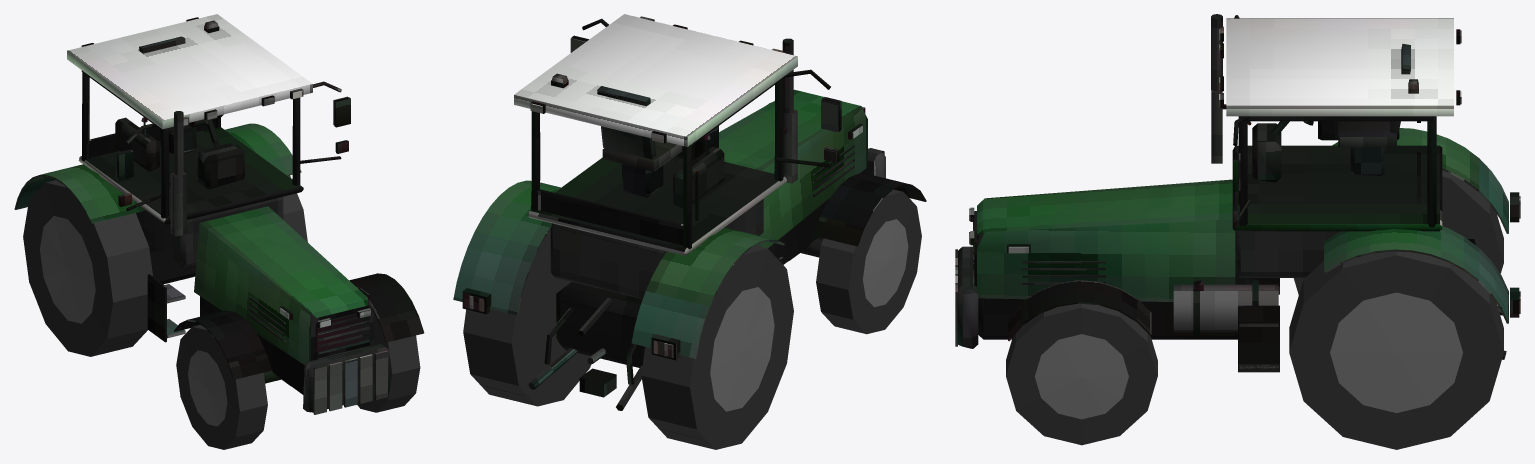
File: traktor_f.glb
3 views of the same model, side by side, from view 1: azimuth 30°, elevation 25°; view 2: azimuth 150°, elevation 25°; view 3: azimuth 270°, elevation 25° (orthographic). The views are drawn at different scales.
Parts seen in each view (by area): view 1: koerper, rad_hl; view 2: koerper, rad_hl; view 3: koerper, rad_hl.
Part boxes in pixels (left/top/right/bottom): koerper: left=14, top=14, right=424, bottom=414; rad_hl: left=23, top=175, right=420, bottom=449; koerper: left=453, top=14, right=926, bottom=439; rad_hl: left=463, top=189, right=921, bottom=449; koerper: left=955, top=14, right=1520, bottom=372; rad_hl: left=1006, top=170, right=1503, bottom=449.
Bounding box in the file's own units: 2.44 × 2.87 × 4.31.
2 materials, 1 textured.
